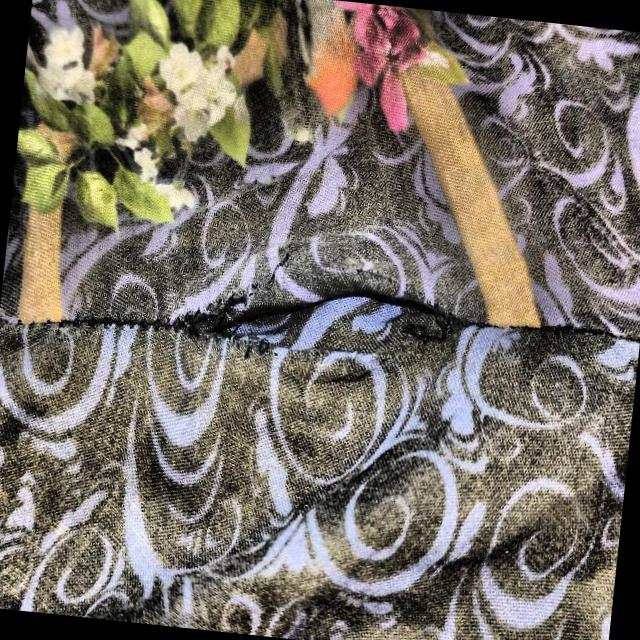gray stitch: (155, 240, 493, 432)
